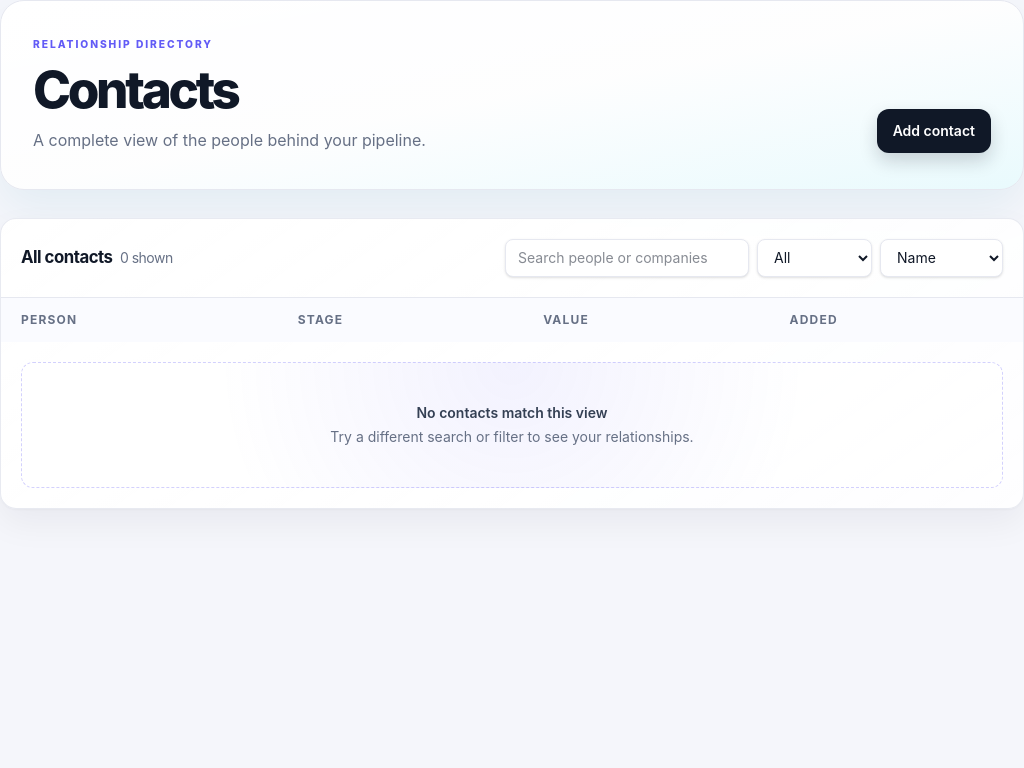
Test case: Add contact form › is hidden until the user opens it
The image size is (1024, 768).
Expected: the button "Save contact" is not shown
Click the button "Add contact".
click(934, 131)  # box [877, 109, 991, 153]
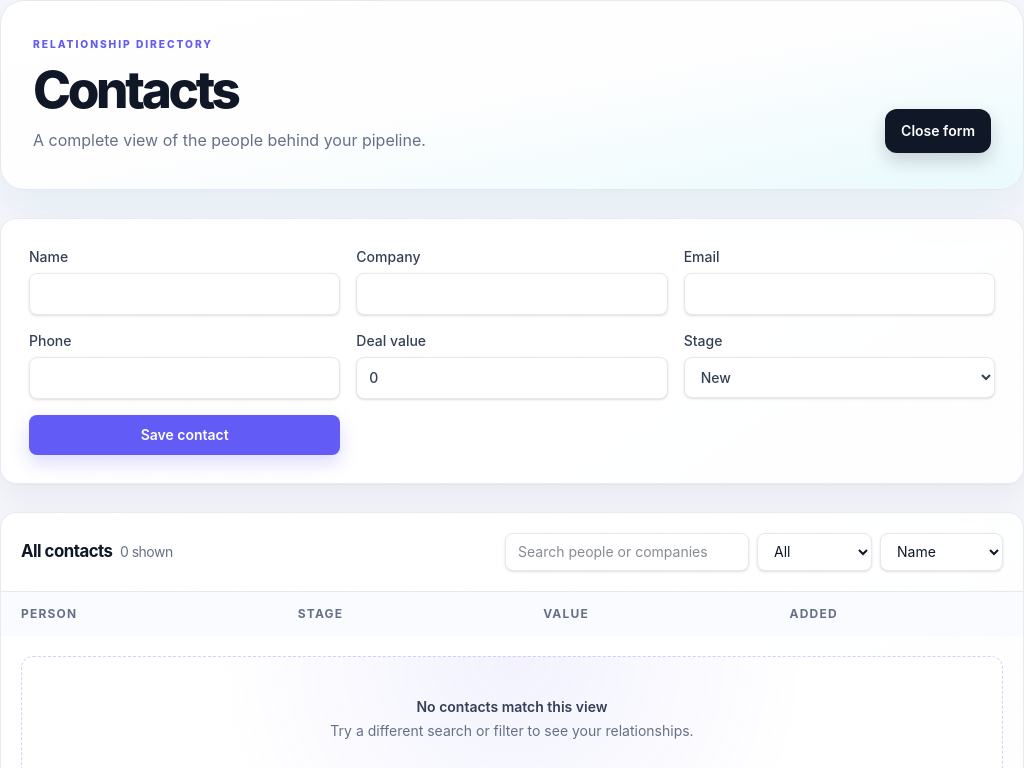
Expected: the button "Save contact" is shown, [29, 415, 340, 455]
